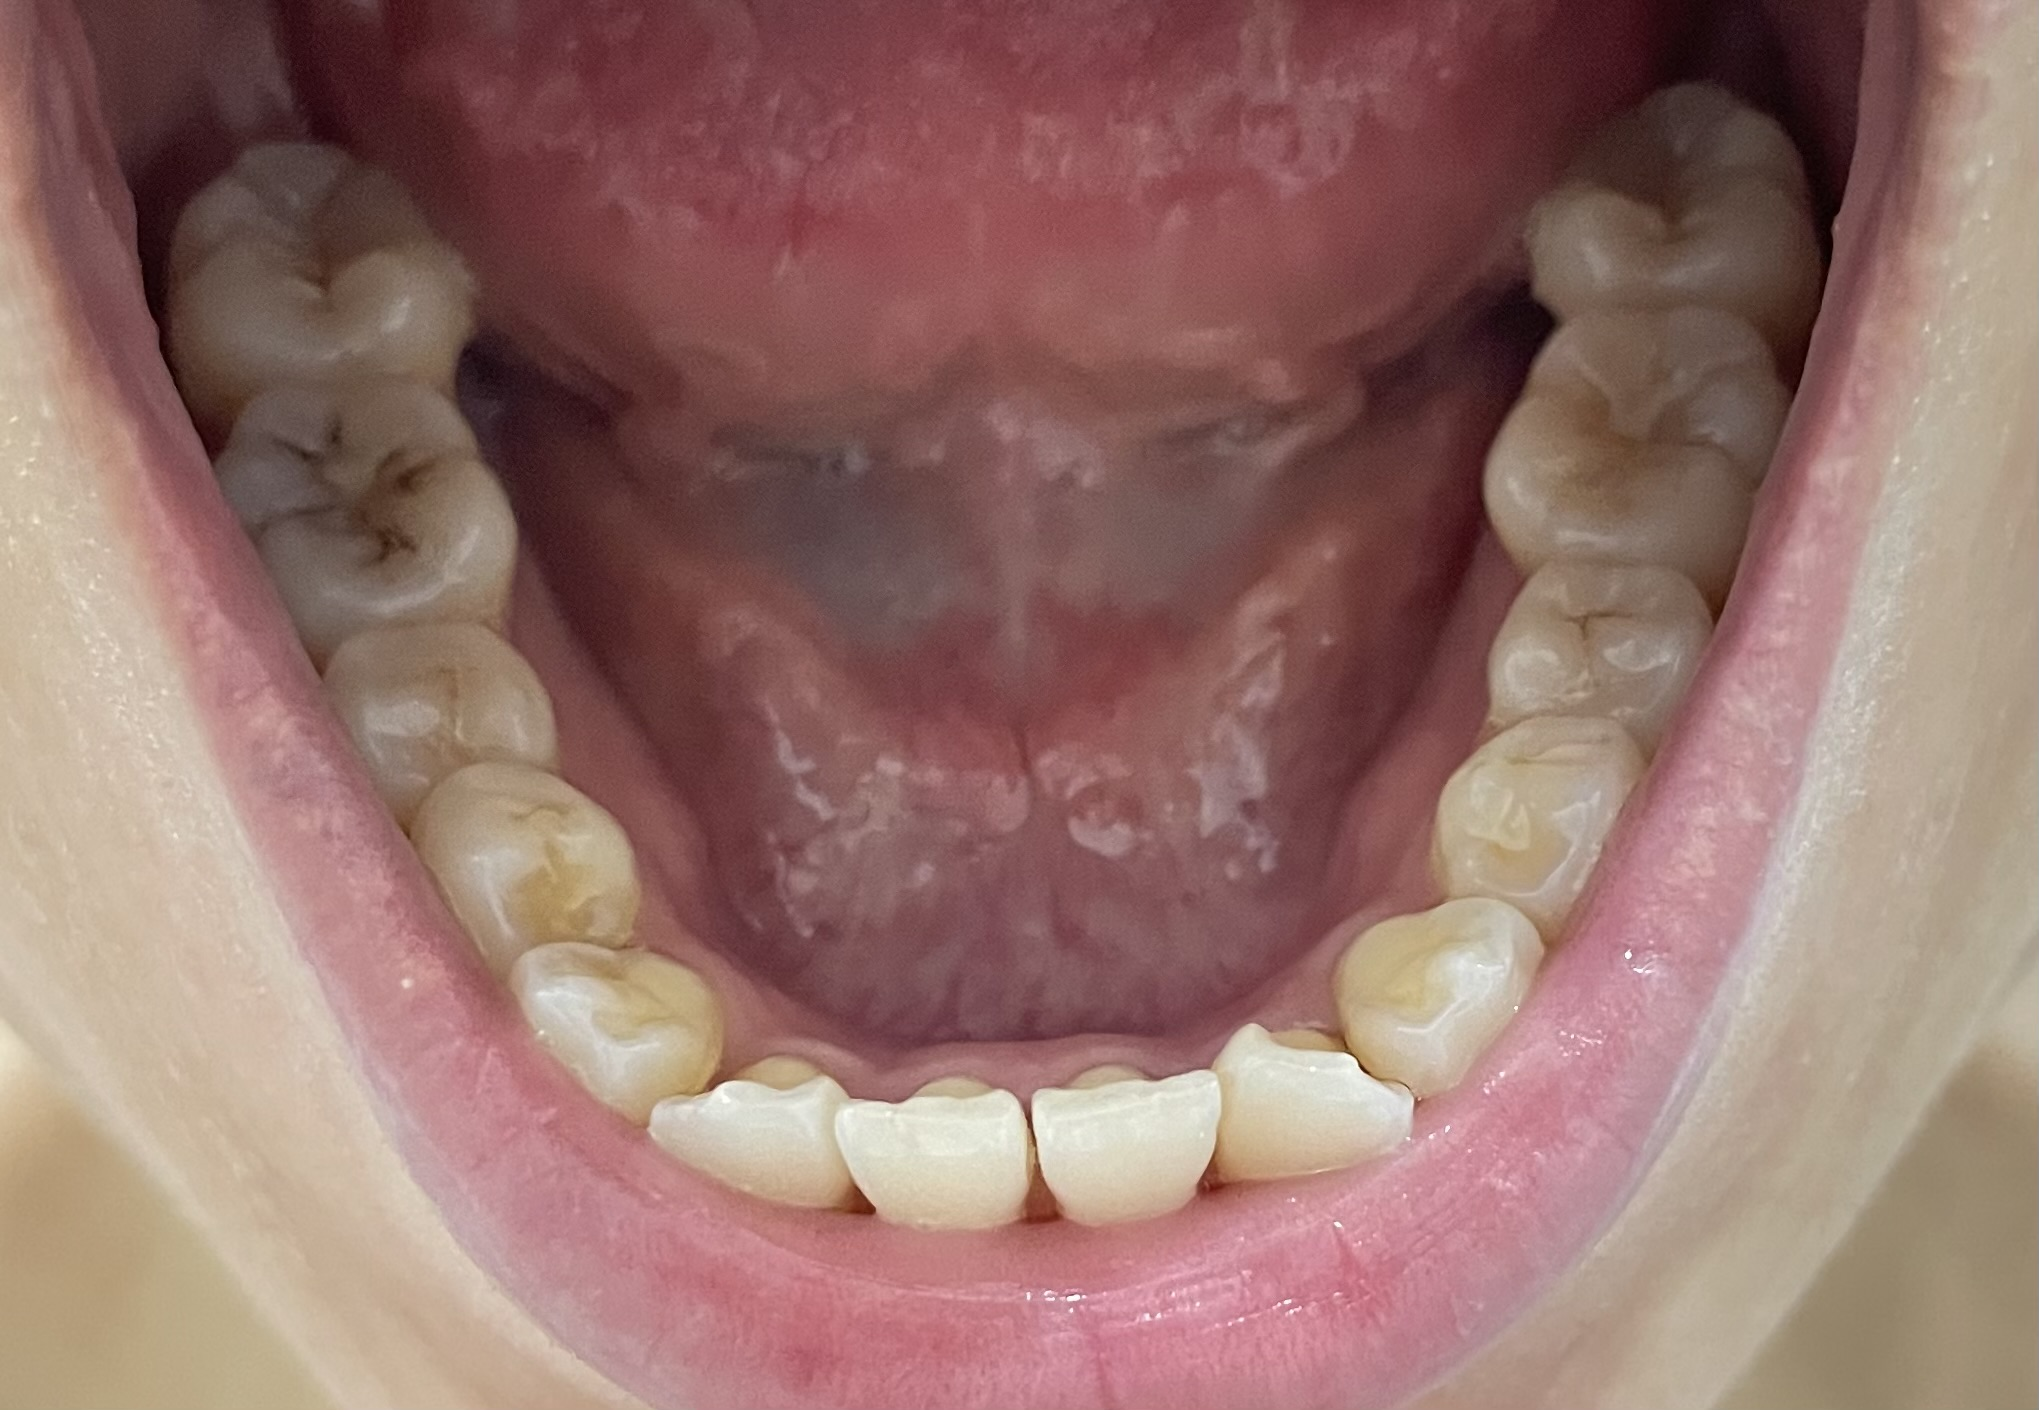teeth: (1486, 321, 1780, 584), (220, 392, 496, 631), (1529, 96, 1805, 325), (172, 155, 445, 377), (1337, 902, 1534, 1095), (1433, 722, 1621, 919), (434, 784, 618, 968), (333, 641, 545, 800), (521, 956, 714, 1109), (1219, 1030, 1407, 1187), (1500, 573, 1692, 724), (652, 1057, 840, 1209), (1040, 1066, 1210, 1207), (861, 1077, 1024, 1223)
